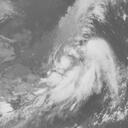cyclone: (47, 37, 112, 102)
